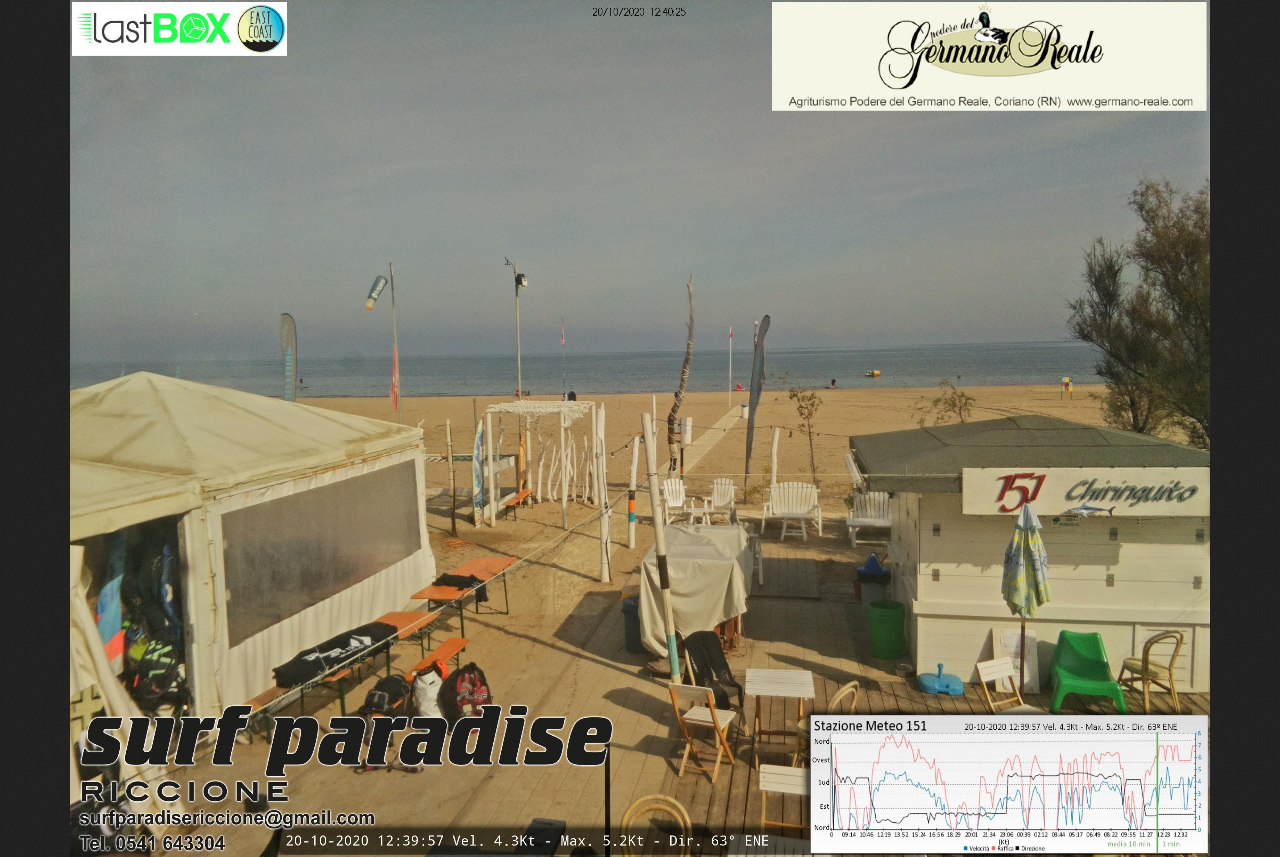no: (386, 336, 405, 411)
